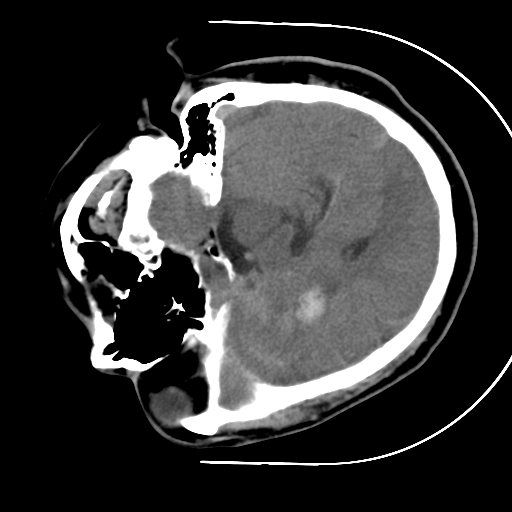a: (277, 253, 348, 355)
